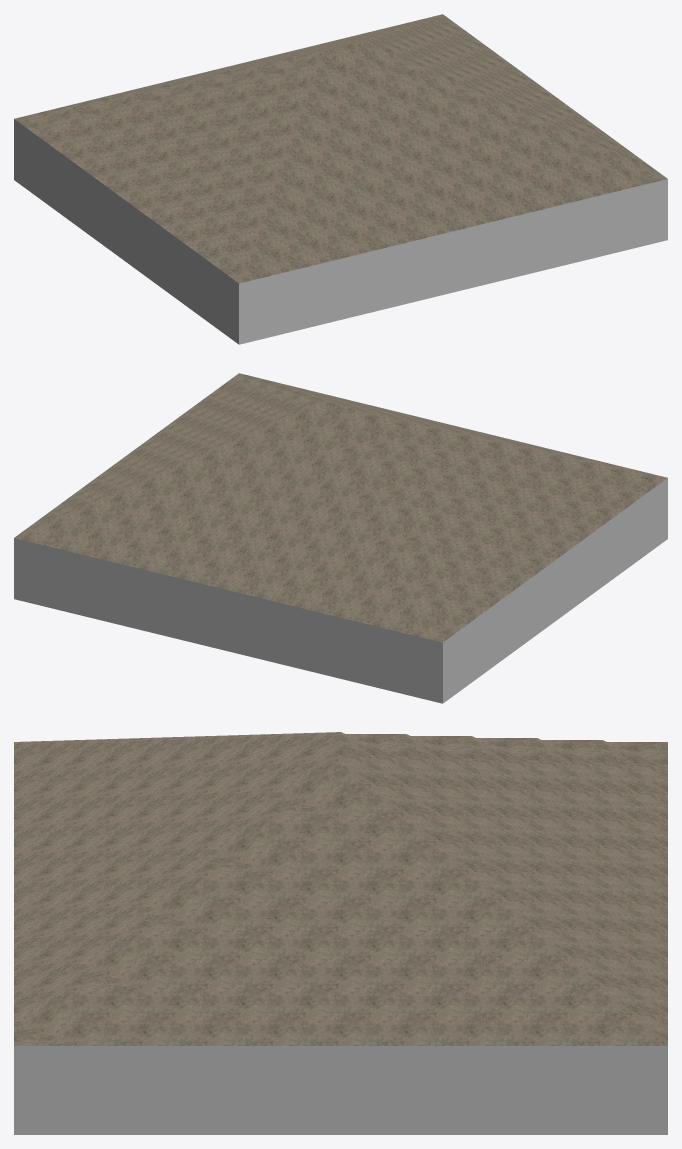
File: StartRoom.obj
The picture shows the model from 3 angles, top to bottom: view 1: azimuth 30°, elevation 25°; view 2: azimuth 150°, elevation 25°; view 3: azimuth 270°, elevation 25°; orthographic projection. The views are drawn at different scales.
Visible parts, largest first — view 1: grp1, grp2; view 2: grp1, grp2; view 3: grp1, grp2.
Part boxes in pixels (x1,y1,x2,y2): grp1: (14,14,667,283); grp2: (14,119,667,344); grp1: (14,373,667,642); grp2: (14,478,667,703); grp1: (14,732,667,1045); grp2: (14,1046,667,1134).
Size of the model in its own units: 330 by 120 by 300.
